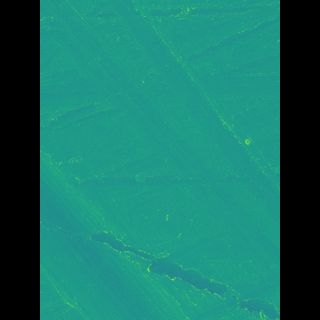Loch: (120, 0, 250, 289), (71, 144, 176, 320)
